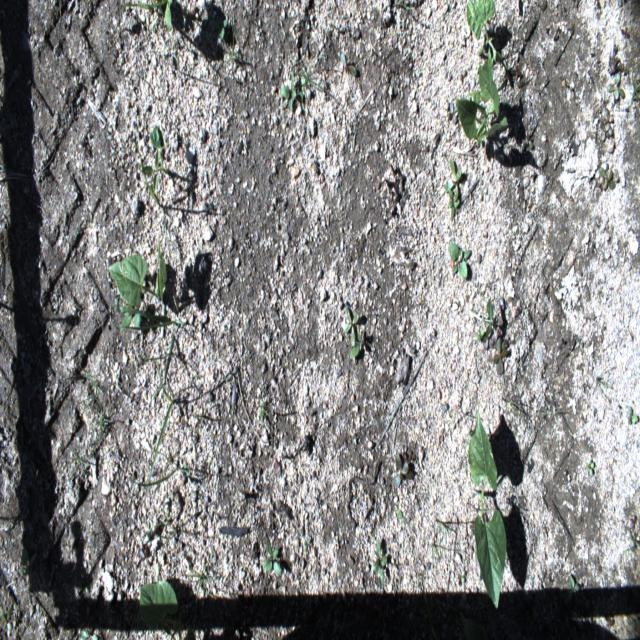crop: (465, 409, 508, 612), (107, 239, 168, 333), (456, 48, 508, 144), (467, 0, 504, 66), (141, 124, 169, 206), (138, 580, 182, 631), (470, 298, 497, 338), (163, 0, 174, 33)
weed: (153, 378, 174, 468), (182, 562, 212, 604), (448, 242, 472, 280), (444, 156, 462, 203), (263, 537, 282, 575), (372, 543, 388, 588), (493, 333, 509, 378), (343, 306, 358, 349), (348, 324, 365, 359), (392, 452, 409, 484), (446, 188, 461, 222), (340, 49, 357, 77), (118, 0, 176, 8), (208, 18, 228, 41), (624, 522, 640, 550), (609, 75, 625, 102), (566, 575, 580, 603), (600, 166, 615, 190), (97, 402, 108, 434), (396, 507, 410, 531), (230, 31, 241, 60), (603, 108, 614, 133), (599, 121, 612, 142), (1, 608, 11, 631), (78, 629, 100, 639), (628, 405, 638, 426), (258, 400, 267, 422), (584, 460, 594, 477), (73, 452, 82, 468), (633, 80, 640, 100), (303, 537, 310, 553), (20, 565, 28, 578), (460, 570, 466, 586), (85, 583, 90, 596), (16, 407, 21, 420)
